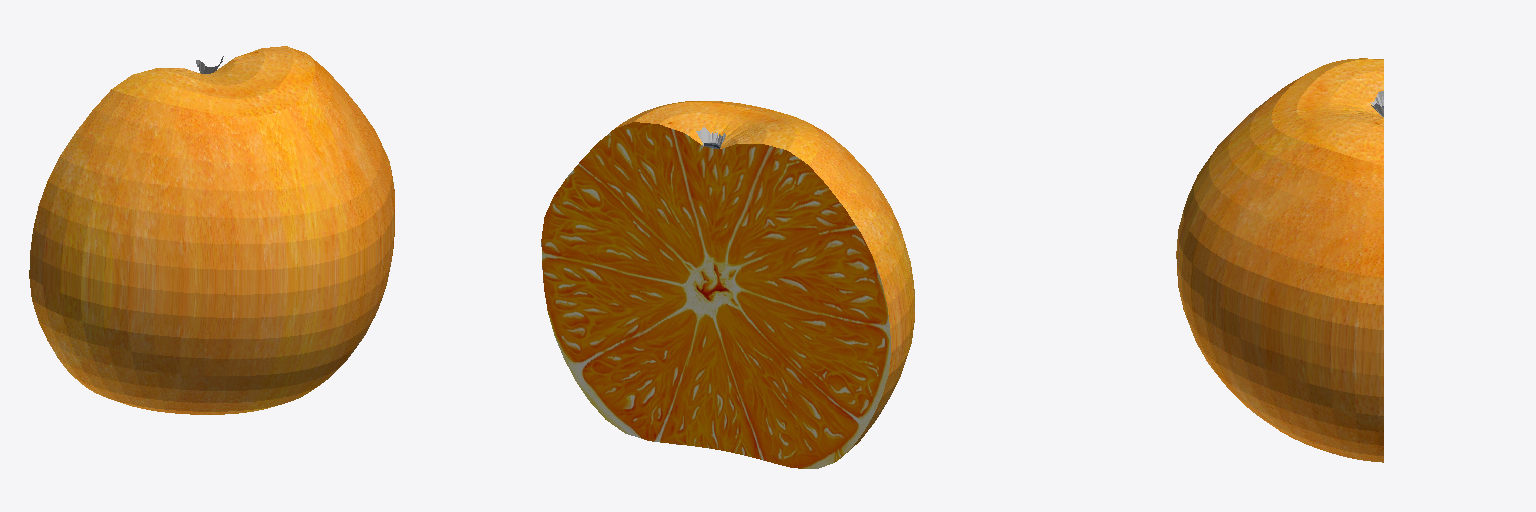
3 renders of one model, left to right at view 1: azimuth 30°, elevation 25°; view 2: azimuth 150°, elevation 25°; view 3: azimuth 270°, elevation 25°, orthographic.
Parts seen in each view (by area): view 1: Grapefruit02, Grapefruit_Top02; view 2: Grapefruit_Top02, Grapefruit02; view 3: Grapefruit02, Grapefruit_Top02.
Boxes of the visible parts, x1=… form: Grapefruit02: x1=29, y1=56, x2=394, y2=414; Grapefruit_Top02: x1=112, y1=46, x2=314, y2=116; Grapefruit_Top02: x1=541, y1=101, x2=890, y2=468; Grapefruit02: x1=809, y1=123, x2=914, y2=458; Grapefruit02: x1=1176, y1=74, x2=1383, y2=462; Grapefruit_Top02: x1=1271, y1=58, x2=1383, y2=164.
Size of the model in its own units: 60.75 by 54.32 by 31.19.
5 materials, 2 textured.